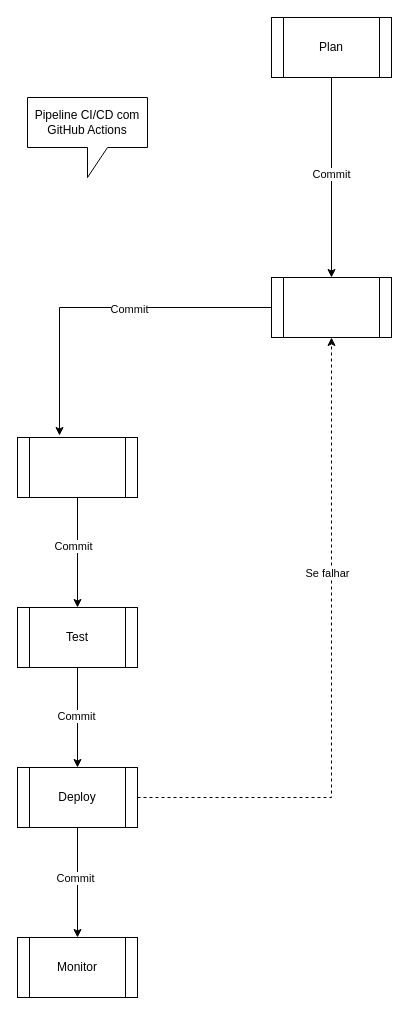
The diagram is 409 pixels wide and 1015 high, and some of its shapes have lost their labels. Here are the shapes that lost their labels. From the top down, the centre of each, then its label:
At point (331, 307): "Code".
At point (77, 467): "Build".
